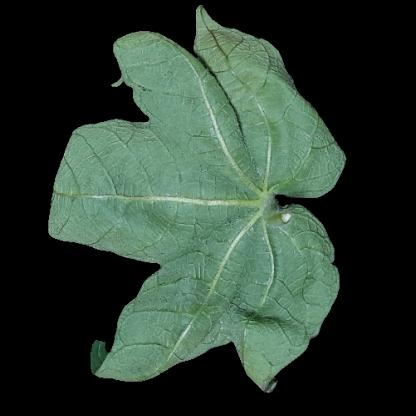curl_stage2: (192, 154, 318, 268), (151, 271, 298, 356), (136, 51, 278, 135), (78, 150, 181, 238), (112, 311, 145, 385), (272, 113, 322, 153)
